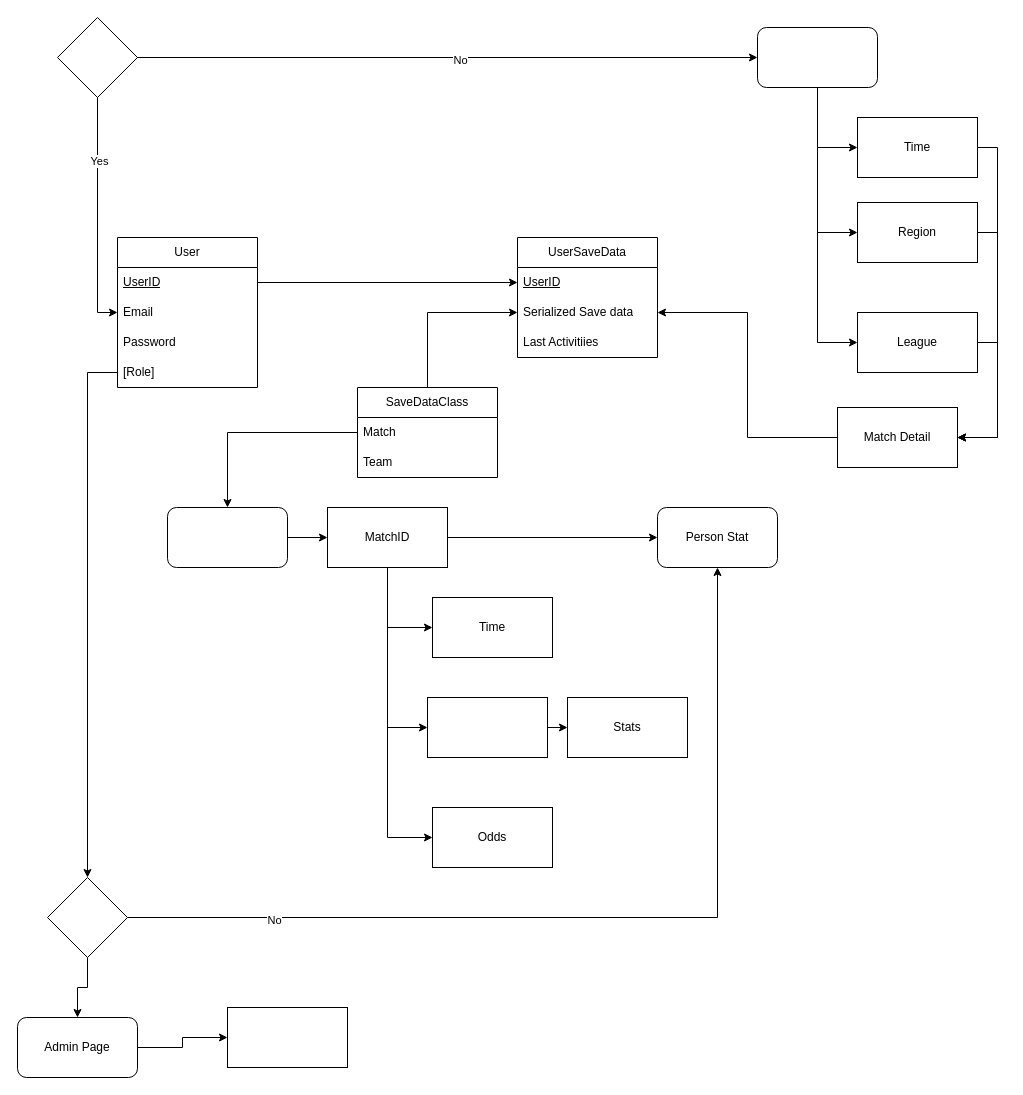
Some shapes in this 1023 by 1095 pixel diagram are drawn without their labels. The shapes that lost their labels are listed below. From the top down, each one's centre as x and y in pixels, then its label:
At [97,57]: "Login".
At [817,57]: "General Stat".
At [227,537]: "API Layer".
At [487,727]: "Teams".
At [87,917]: "is Admin".
At [287,1037]: "CRUD".
